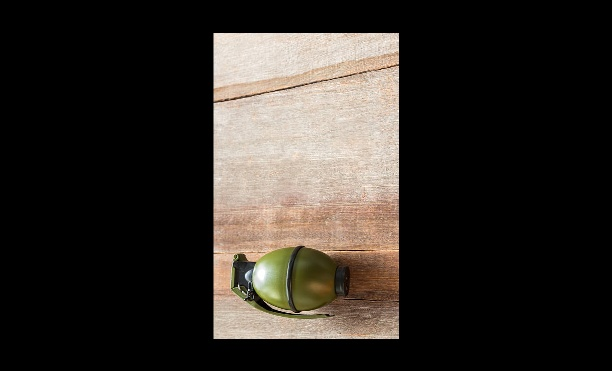e1: (227, 241, 347, 320)
